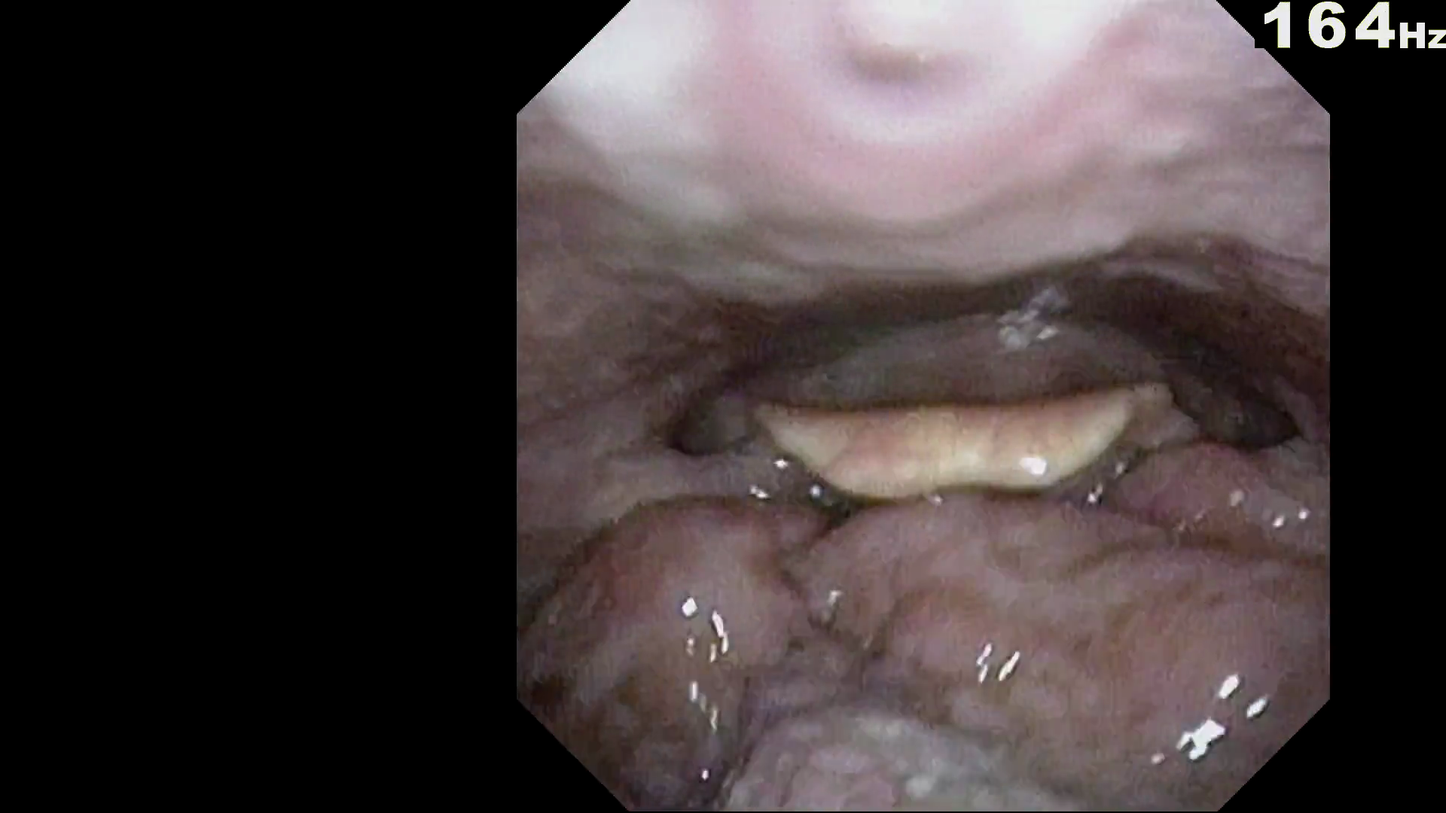epiglottis: (686, 453, 1199, 617)
trachea: (933, 445, 1051, 563)
